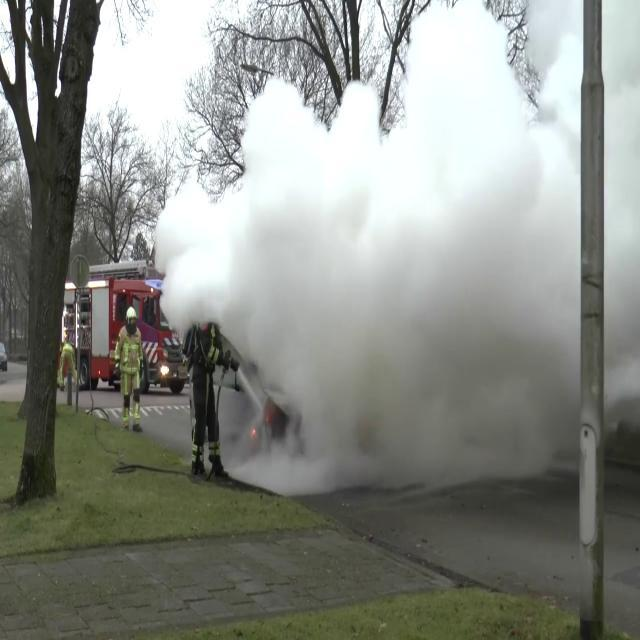Smoke: (158, 4, 580, 504)
